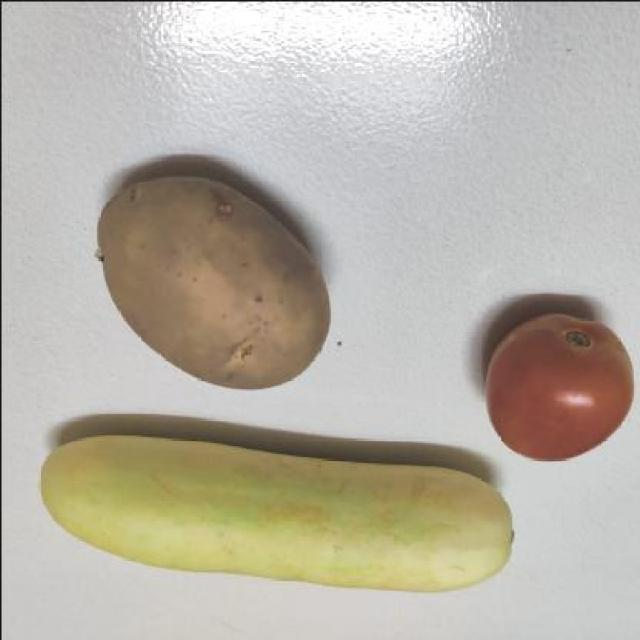Potato: (83, 160, 339, 394)
Tomato: (480, 298, 640, 464)
cucumber: (32, 438, 514, 598)
